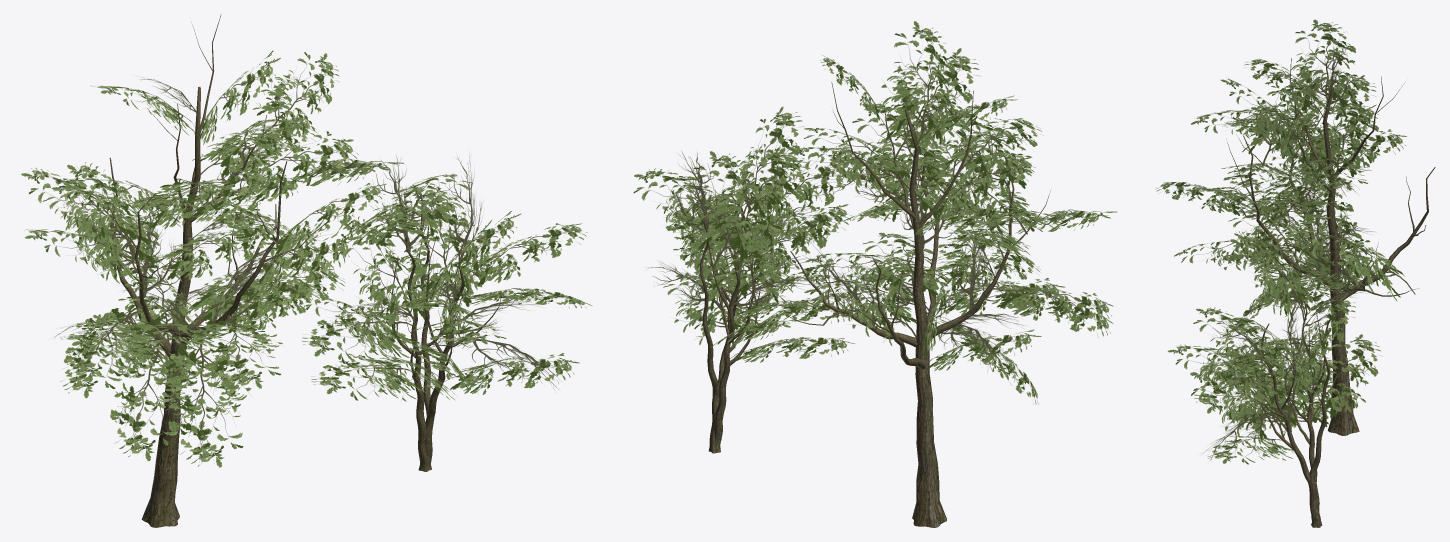
The model's file is oak_pale_a.glb.
The picture shows the model from 3 angles, left to right: view 1: azimuth 30°, elevation 25°; view 2: azimuth 150°, elevation 25°; view 3: azimuth 270°, elevation 25°; orthographic projection. The views are drawn at different scales.
Parts seen in each view (by area): view 1: leafplanes_2_196_0_w; view 2: leafplanes_2_196_0_w; view 3: leafplanes_2_196_0_w.
Part boxes in pixels (<box>): leafplanes_2_196_0_w: <box>21,14,592,527</box>; leafplanes_2_196_0_w: <box>633,21,1116,527</box>; leafplanes_2_196_0_w: <box>1155,19,1435,527</box>.
Size of the model in its own units: 10.62 by 9 by 5.78.
Materials: 2 (2 with a texture image).
